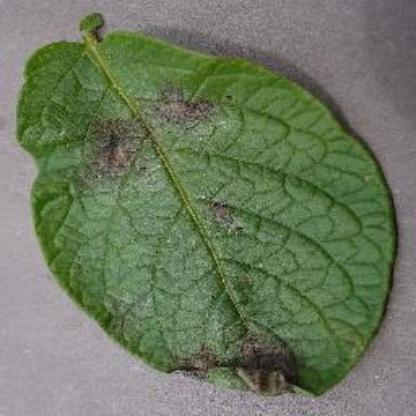Late-Blight: (13, 9, 401, 404)
